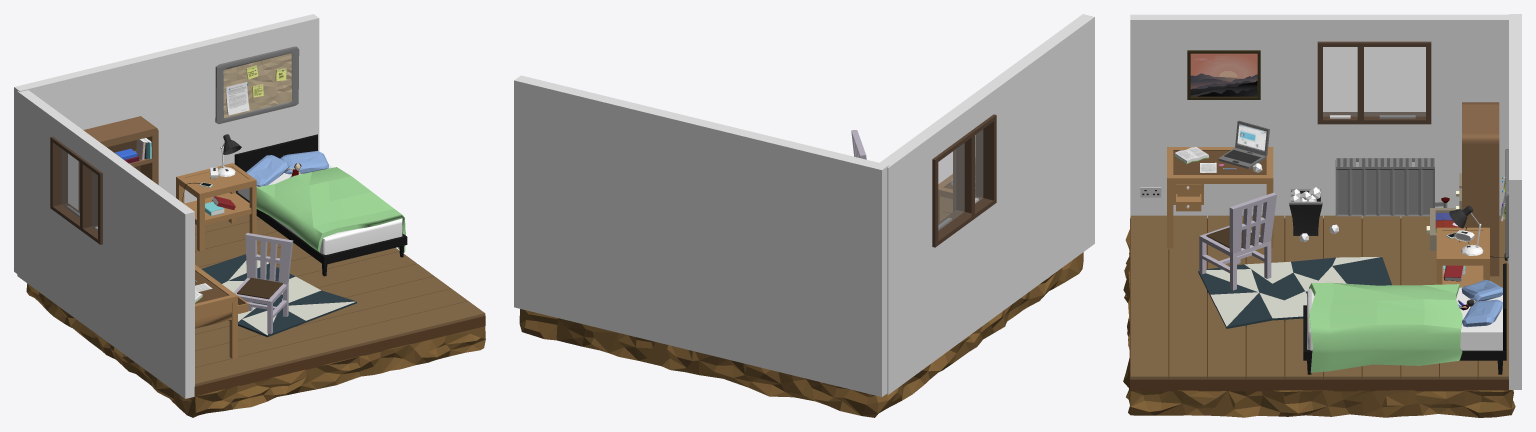
3 views of the same model, side by side, from view 1: azimuth 30°, elevation 25°; view 2: azimuth 150°, elevation 25°; view 3: azimuth 270°, elevation 25° (orthographic). The views are drawn at different scales.
Parts seen in each view (by area): view 1: wall, Cube.001, Cube.013, Cube.057, Cube.004, Cube.027, Cube.007, Cube.046, WINDOWFRAME, Cube, Cube.003, Cube.052 (+8 smaller); view 2: Cube.001, wall, Cube.057, WINDOWFRAME, Plane.002; view 3: wall, Cube.013, Cube.004, Cube.057, Cube.027, Plane.002, Cube, Cube.031, Cube.002, Cube.001, Cube.046, Cube.030 (+12 smaller).
Part boxes in pixels (x1=…): wall: x1=17, y1=90, x2=194, y2=398; Cube.001: x1=14, y1=14, x2=319, y2=273; Cube.013: x1=195, y1=214, x2=485, y2=386; Cube.057: x1=26, y1=283, x2=485, y2=417; Cube.004: x1=256, y1=167, x2=405, y2=252; Cube.027: x1=201, y1=254, x2=356, y2=337; Cube.007: x1=176, y1=163, x2=256, y2=251; Cube.046: x1=233, y1=233, x2=293, y2=333; WINDOWFRAME: x1=50, y1=136, x2=102, y2=244; Cube: x1=194, y1=315, x2=485, y2=396; Cube.003: x1=234, y1=134, x2=407, y2=276; Cube.052: x1=223, y1=53, x2=291, y2=117; Cube.001: x1=514, y1=75, x2=888, y2=396; wall: x1=880, y1=14, x2=1094, y2=394; Cube.057: x1=519, y1=252, x2=1083, y2=417; WINDOWFRAME: x1=932, y1=114, x2=996, y2=247; Plane.002: x1=938, y1=129, x2=983, y2=230; wall: x1=1130, y1=14, x2=1508, y2=218; Cube.013: x1=1130, y1=215, x2=1508, y2=379; Cube.004: x1=1309, y1=282, x2=1462, y2=372; Cube.057: x1=1123, y1=229, x2=1515, y2=417; Cube.027: x1=1198, y1=257, x2=1391, y2=328; Plane.002: x1=1323, y1=47, x2=1425, y2=116; Cube: x1=1130, y1=218, x2=1511, y2=391; Cube.031: x1=1459, y1=102, x2=1499, y2=276; Cube.002: x1=1335, y1=160, x2=1434, y2=216; Cube.001: x1=1509, y1=14, x2=1521, y2=389; Cube.046: x1=1199, y1=192, x2=1276, y2=290; Cube.030: x1=1187, y1=50, x2=1260, y2=99.
Bounding box in the file's own units: 3.17 × 2.04 × 3.12.
107 materials, 8 textured.
